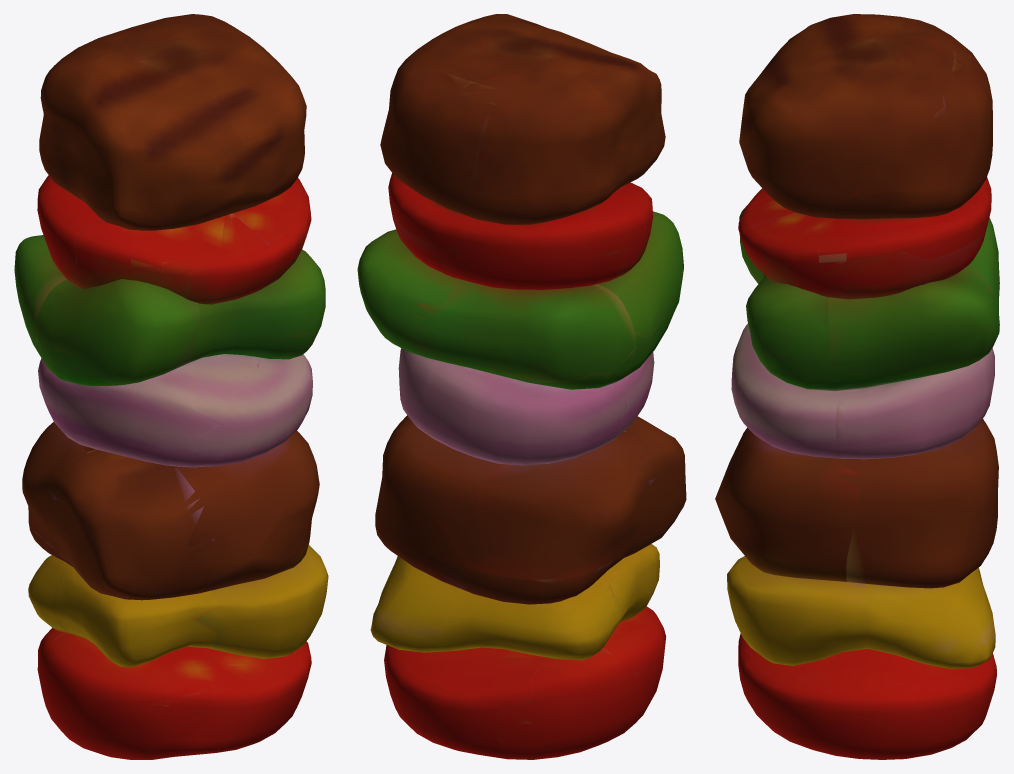
Rendered from KebabTower.glb.
3 views of the same model, side by side, from view 1: azimuth 30°, elevation 25°; view 2: azimuth 150°, elevation 25°; view 3: azimuth 270°, elevation 25° (orthographic).
Parts seen in each view (by area): view 1: geometry_0; view 2: geometry_0; view 3: geometry_0.
Boxes of the visible parts, x1=… form: geometry_0: x1=14, y1=14, x2=328, y2=759; geometry_0: x1=357, y1=14, x2=686, y2=759; geometry_0: x1=715, y1=14, x2=999, y2=759.
Bounding box in the file's own units: 30.22 × 79.79 × 30.62.
Materials: 1 (1 with a texture image).
